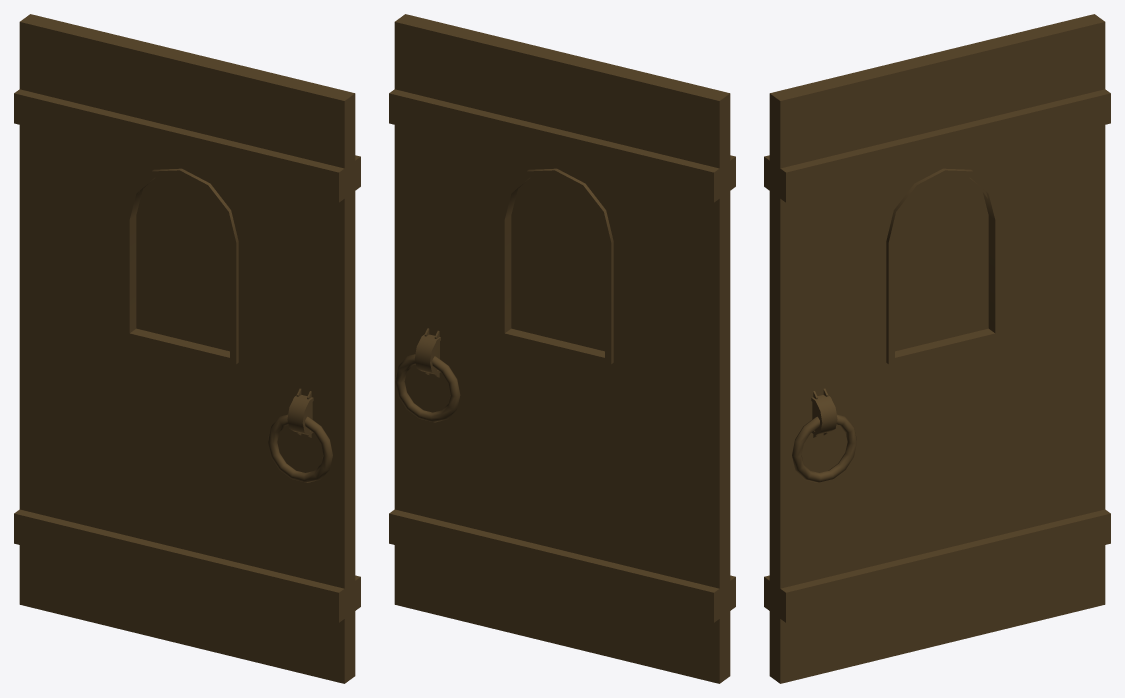
The model's file is SM_Door.fbx.
3 views of the same model, side by side, from view 1: azimuth 30°, elevation 25°; view 2: azimuth 210°, elevation 25°; view 3: azimuth 270°, elevation 25° (orthographic).
Visible parts, largest first — view 1: Door, Handle_Front; view 2: Door, Handle_Back; view 3: Door, Handle_Back.
Boxes of the visible parts, left/top/right/bottom form: Door: left=14, top=14, right=360, bottom=683; Handle_Front: left=268, top=414, right=332, bottom=482; Door: left=389, top=14, right=735, bottom=683; Handle_Back: left=395, top=354, right=460, bottom=422; Door: left=764, top=14, right=1110, bottom=683; Handle_Back: left=792, top=414, right=856, bottom=482.
Size of the model in its own units: 105 by 300 by 162.
